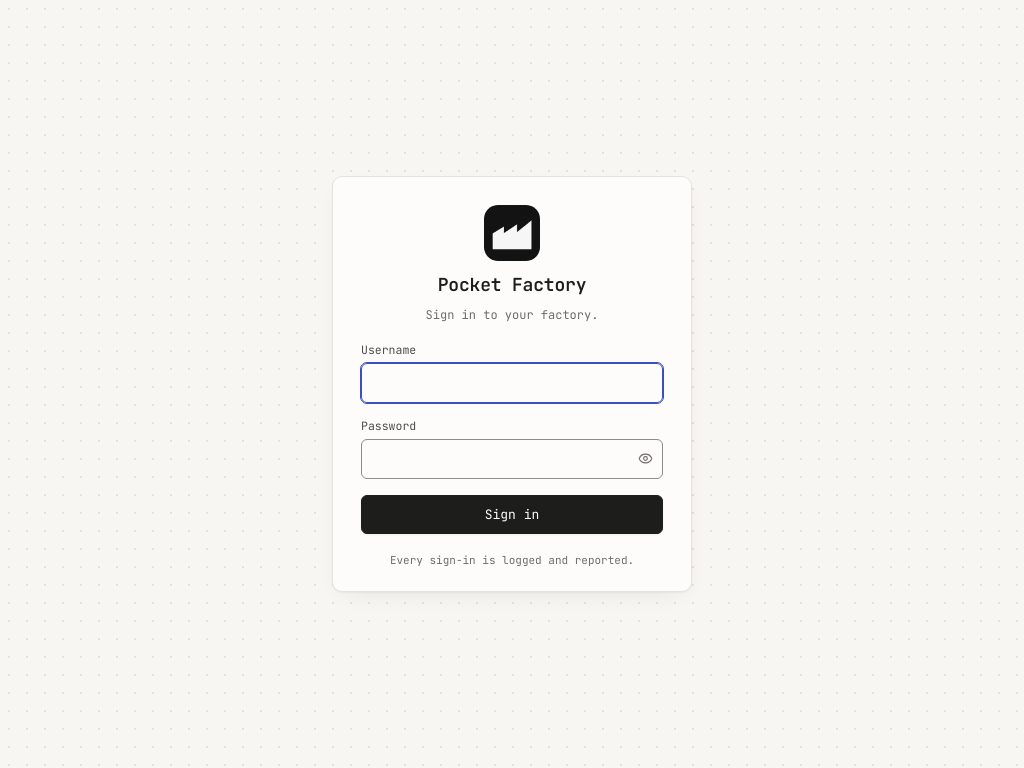
Test: AuthProvider › warns that the next wrong password locks
The image size is (1024, 768).
Expected: the button "Sign in" is shown, [361,495,663,534]
Type "owner" into the field labelled "Username". click: (512, 383)
box: [361,363,663,403]
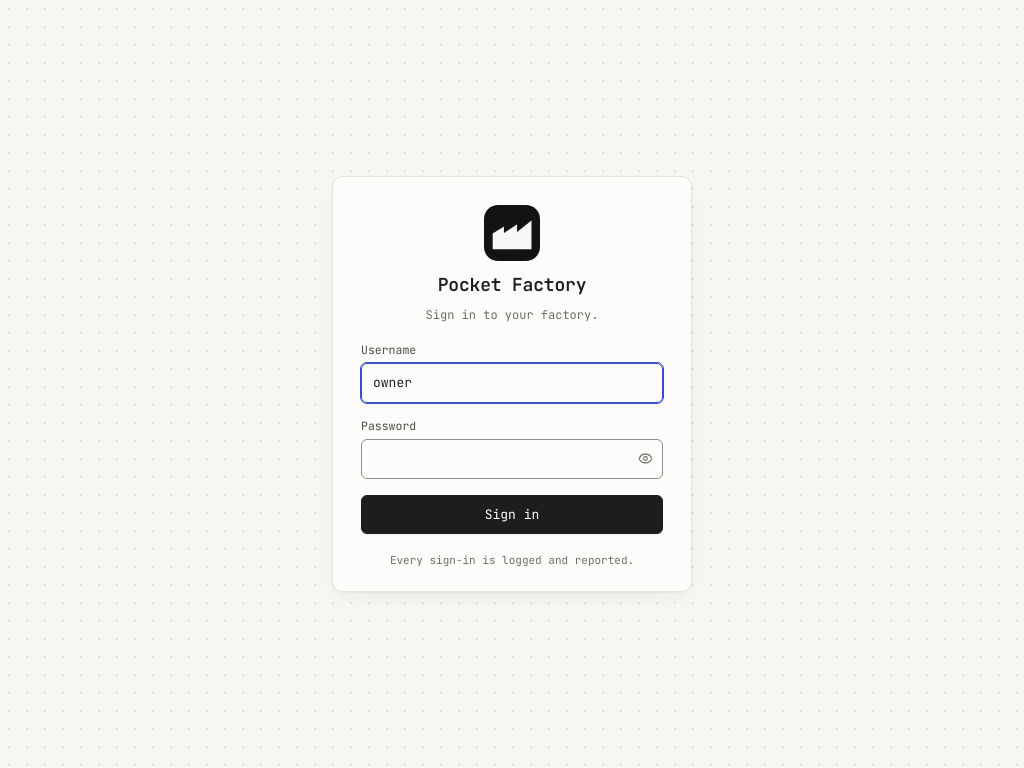
Type "guess" into the password field labelled "Password". click: (512, 459)
box: [361,439,663,479]
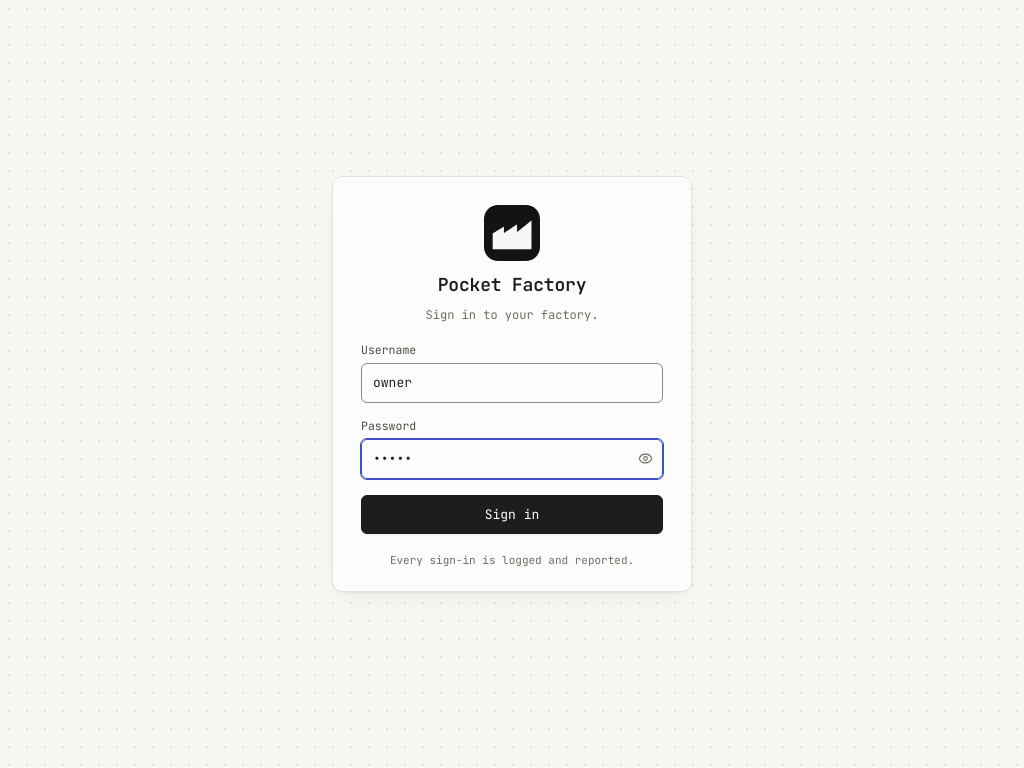
Click the button "Sign in". click: click(512, 515)
box: [361,495,663,534]
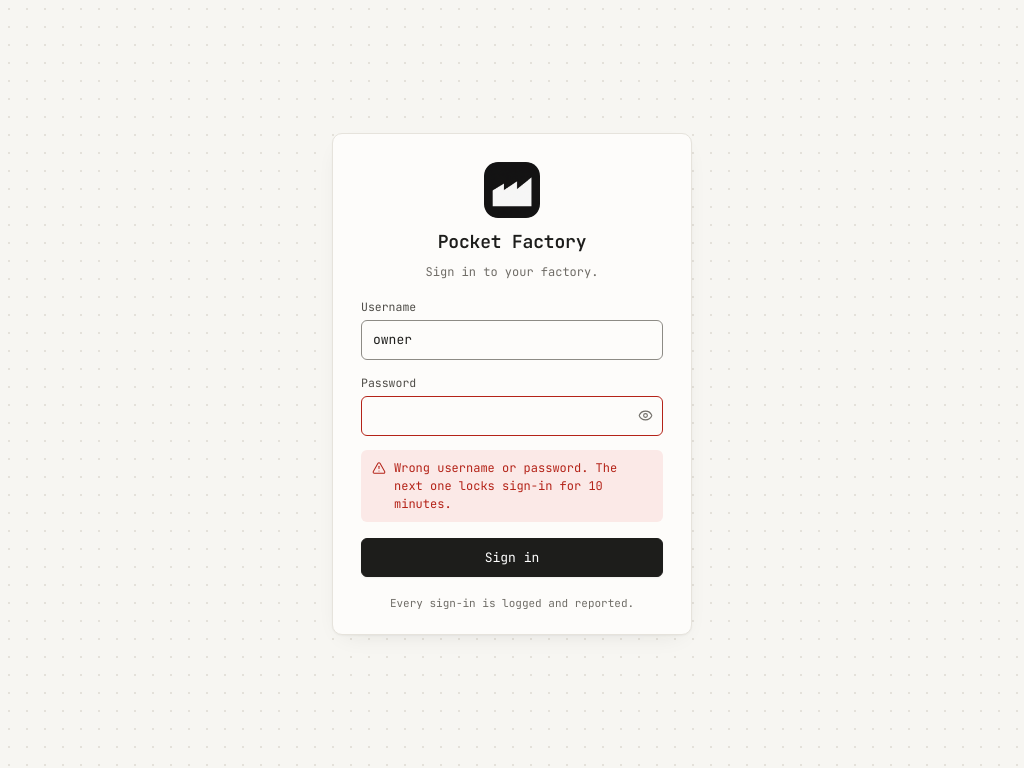
Expected: the message shows "The next one locks sign-in for 10 minutes.", [361,450,663,522]
